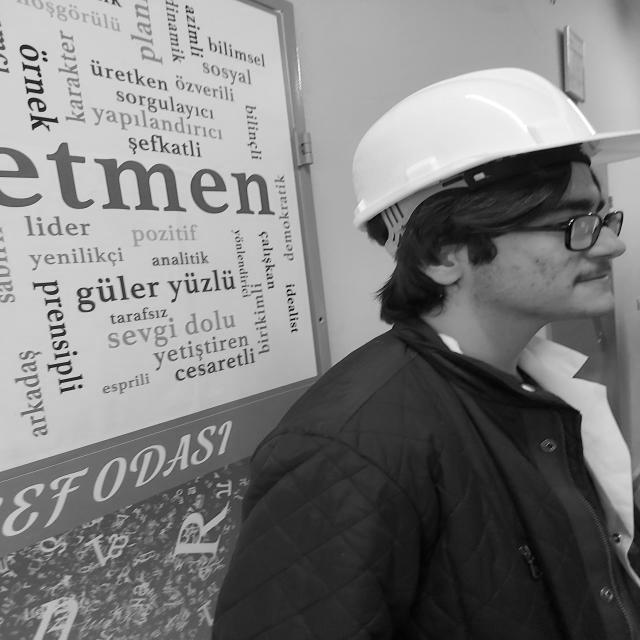construction helmet: (351, 68, 623, 260)
